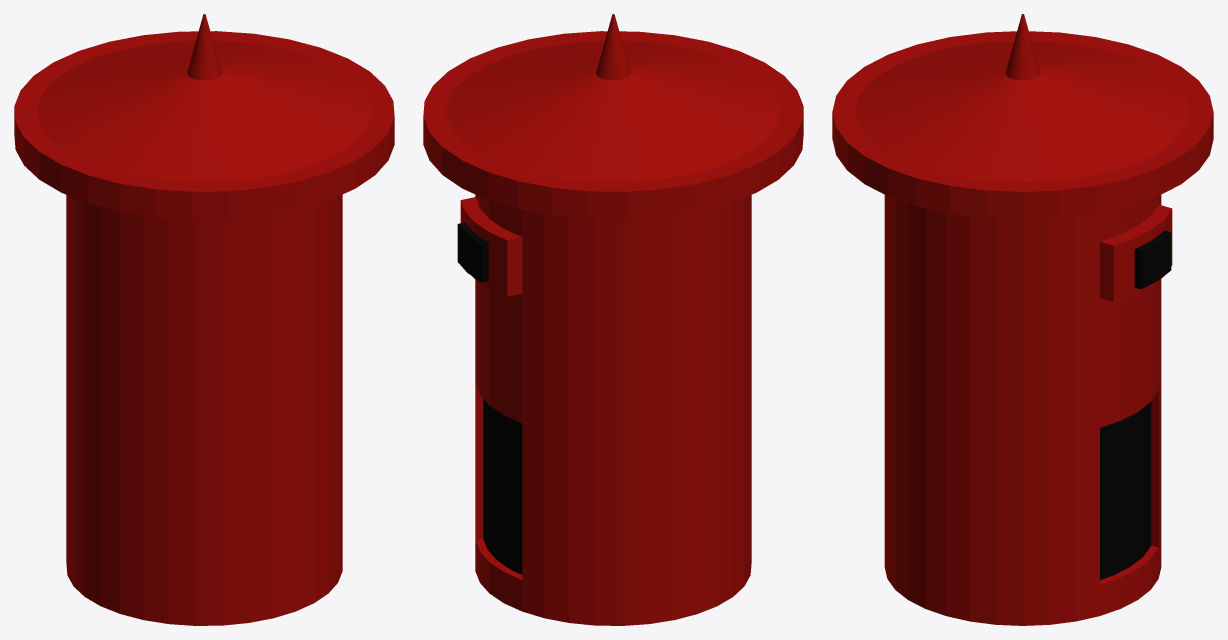
File: Musluk.fbx
3 renders of one model, left to right at view 1: azimuth 30°, elevation 25°; view 2: azimuth 150°, elevation 25°; view 3: azimuth 270°, elevation 25°, orthographic.
Parts seen in each view (by area): view 1: Cylinder; view 2: Cylinder; view 3: Cylinder.
Part boxes in pixels (<box>): Cylinder: <box>14,14,394,625</box>; Cylinder: <box>423,14,803,625</box>; Cylinder: <box>832,14,1213,625</box>.
Size of the model in its own units: 680 by 1088 by 680.
